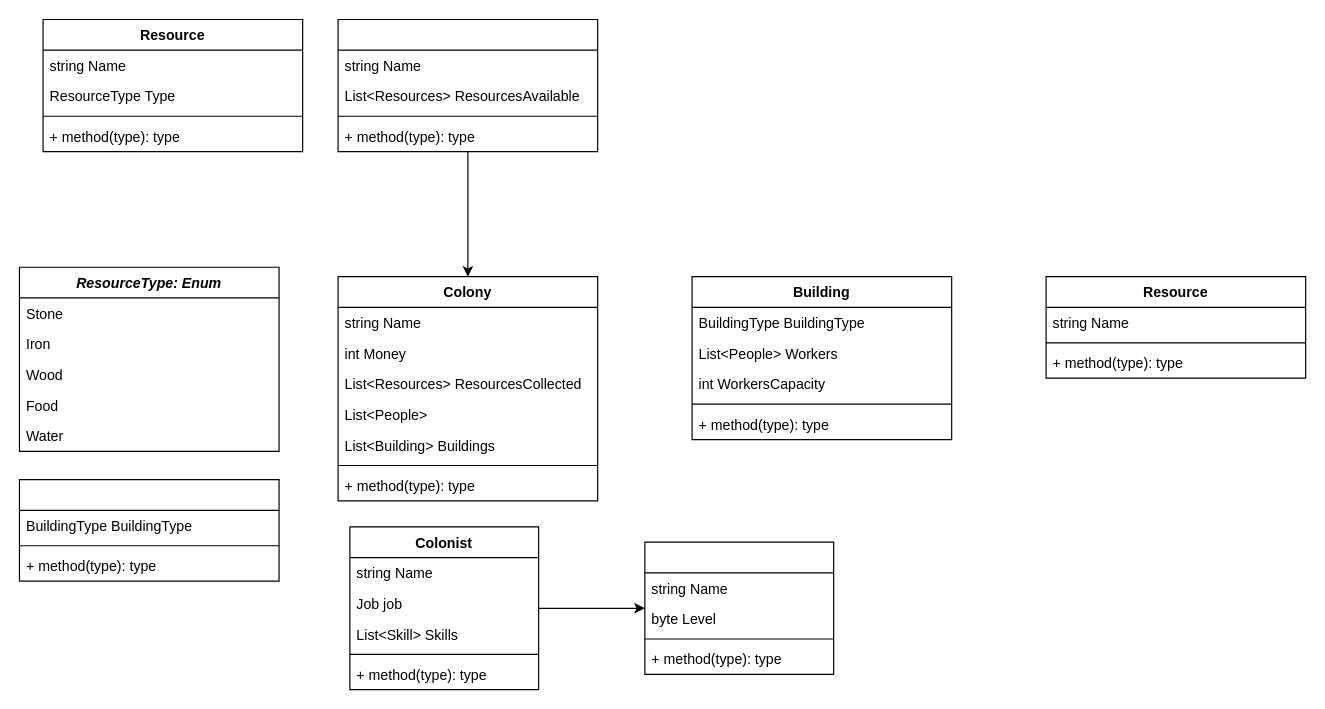
Image size: 1325x709. Some labels were removed from this diagram. The box of each missing label's shape, as (x1, y1, x2, y2) in pixels:
BuildingType: Enum: (18, 478, 279, 581)
Job: (644, 541, 834, 674)
Planet: (337, 18, 598, 152)
